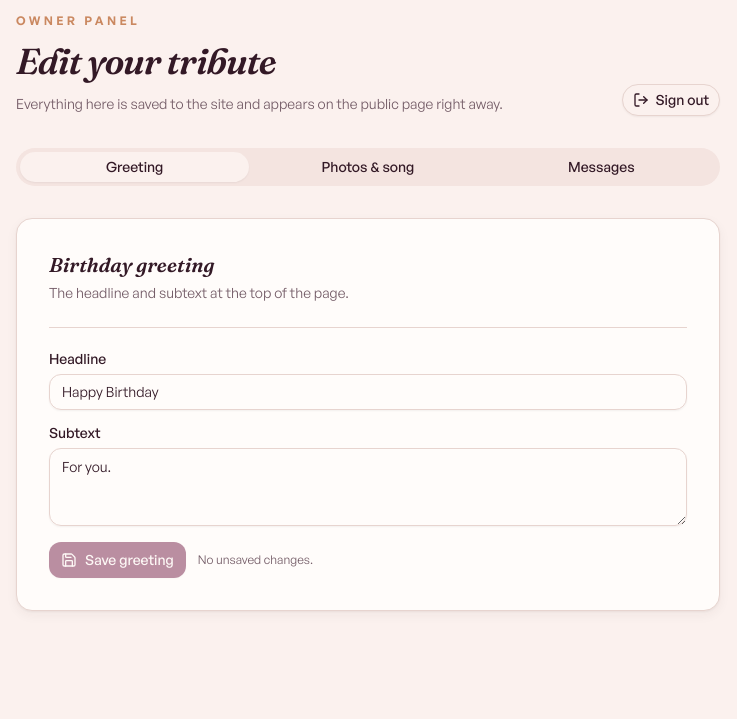
Scenario: owner management panel › shows the owner's message list with reorder controls disabled at the ends
Click the tab with test id "admin.messages.tab" at [601, 167], box [487, 152, 716, 182]
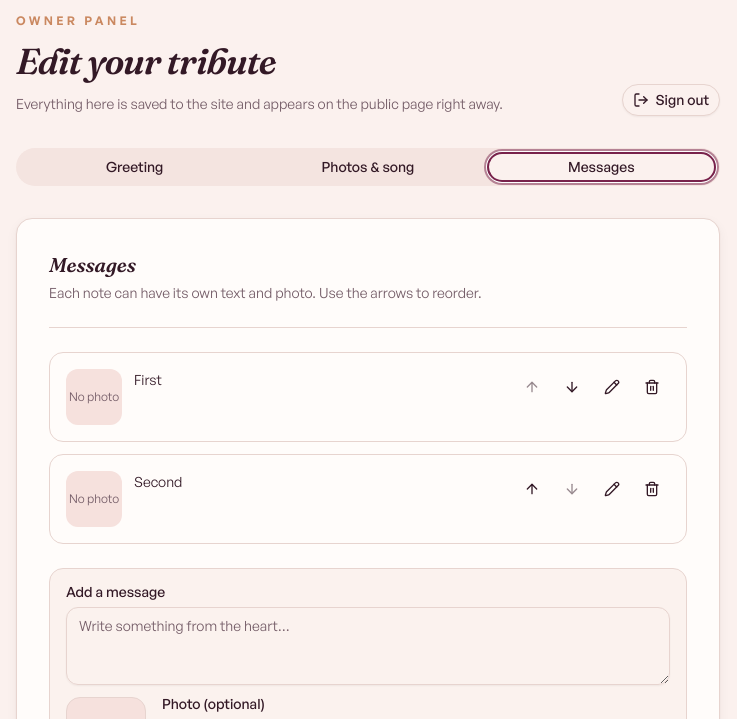
expect the button with test id "owner.message.move_up_button.1" is disabled: met, box [514, 369, 550, 405]
expect the button with test id "owner.message.move_down_button.2" is disabled: met, box [554, 471, 590, 507]
